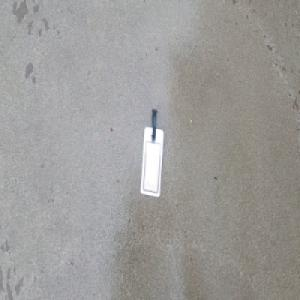LuggageTag: (139, 107, 164, 199)
